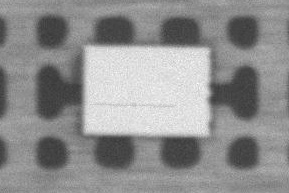DIE_CRACK: (135, 69, 261, 71)
